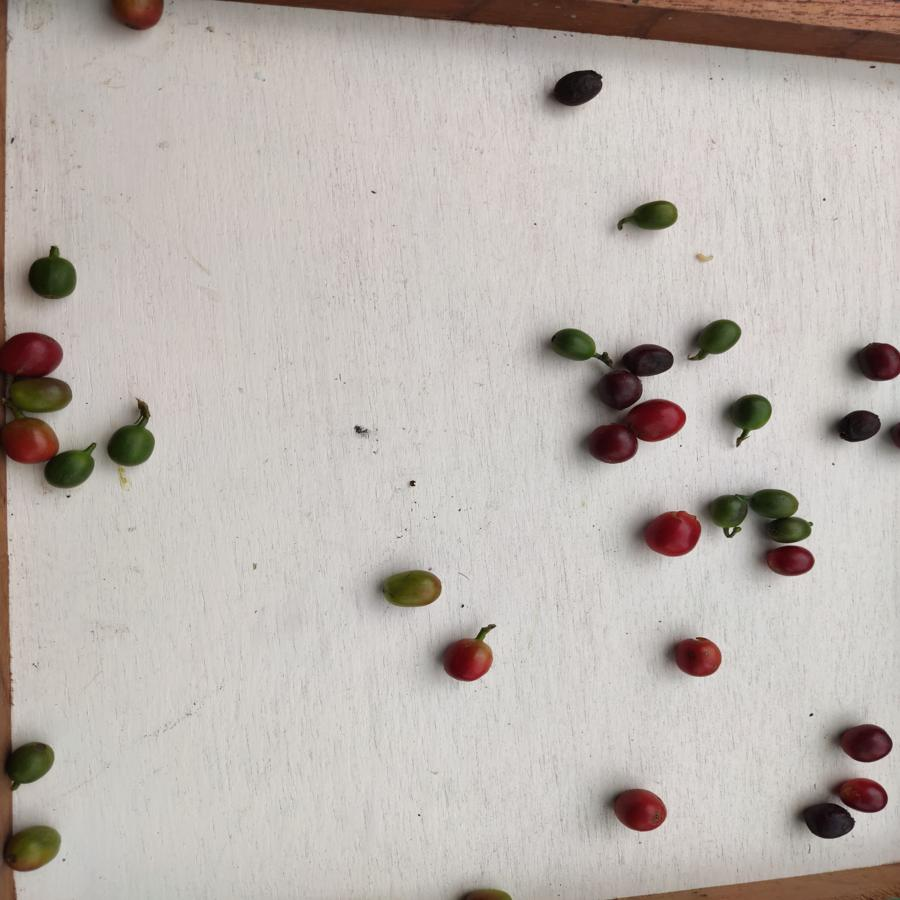Inmaduro: (102, 420, 158, 470), (24, 252, 80, 299), (5, 734, 54, 786), (43, 450, 101, 489), (689, 314, 742, 356), (548, 325, 598, 365), (726, 393, 773, 434), (708, 493, 752, 531), (748, 486, 800, 518), (762, 514, 817, 543), (630, 198, 678, 231)
Maduro: (643, 507, 704, 557), (611, 784, 670, 835), (1, 414, 61, 462), (2, 332, 63, 376), (442, 636, 495, 684), (636, 397, 691, 443), (673, 634, 725, 678)
Pinton: (4, 823, 62, 876), (1, 373, 71, 416), (380, 567, 444, 609), (111, 1, 167, 29)
Sobremaduro: (836, 723, 893, 765), (551, 65, 605, 109), (800, 801, 856, 842), (589, 420, 638, 465), (853, 337, 899, 383), (619, 342, 675, 379), (592, 367, 642, 408), (839, 775, 889, 815), (837, 409, 882, 445), (766, 545, 814, 577)
